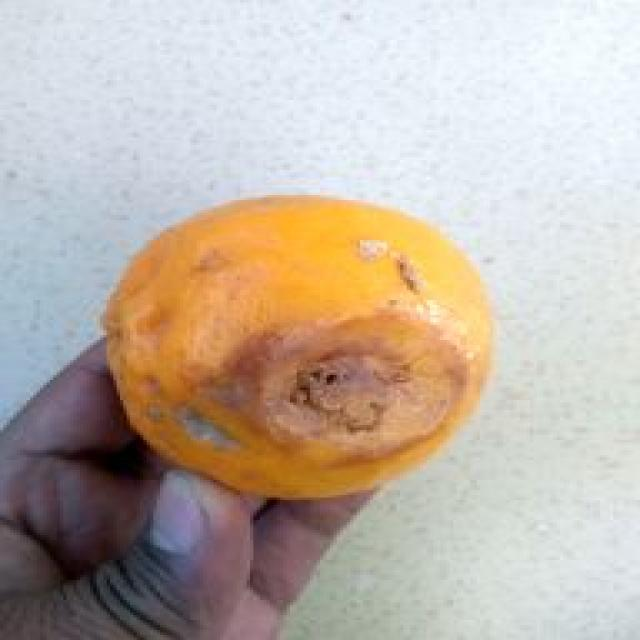Bad_Orange: (107, 196, 492, 498)
